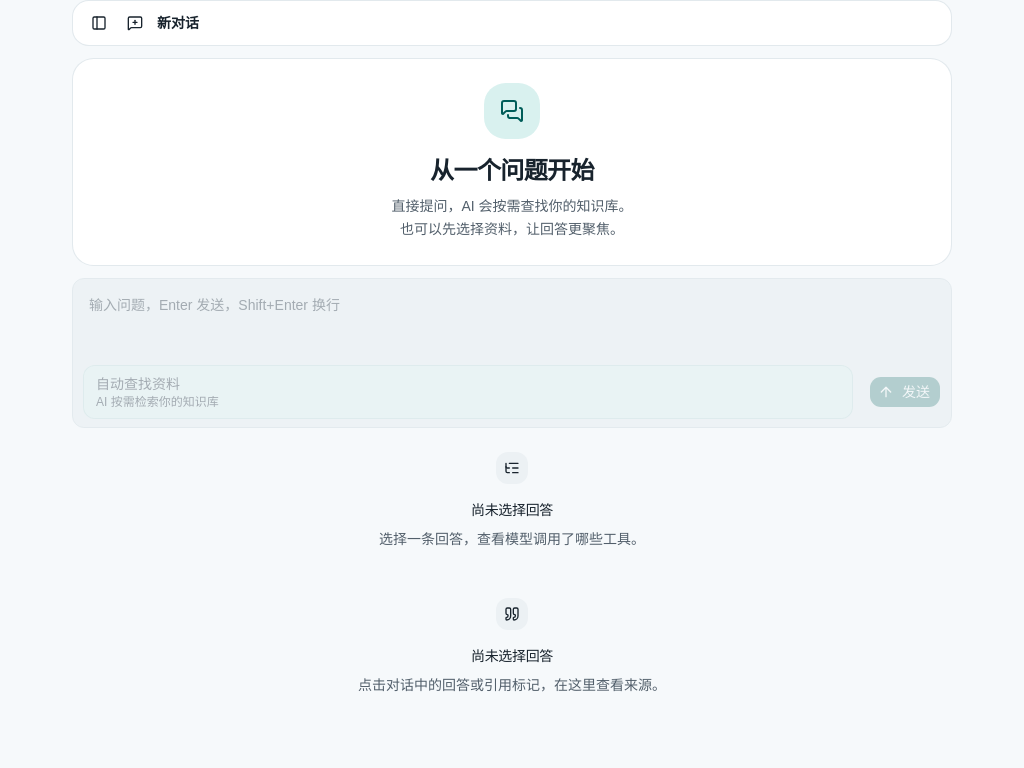
ChatView streaming › rechecks the scope before sending and keeps invalid selections from becoming automatic
The image size is (1024, 768).
Click the button named "展开会话列表" at (99, 23), box [85, 9, 113, 37]
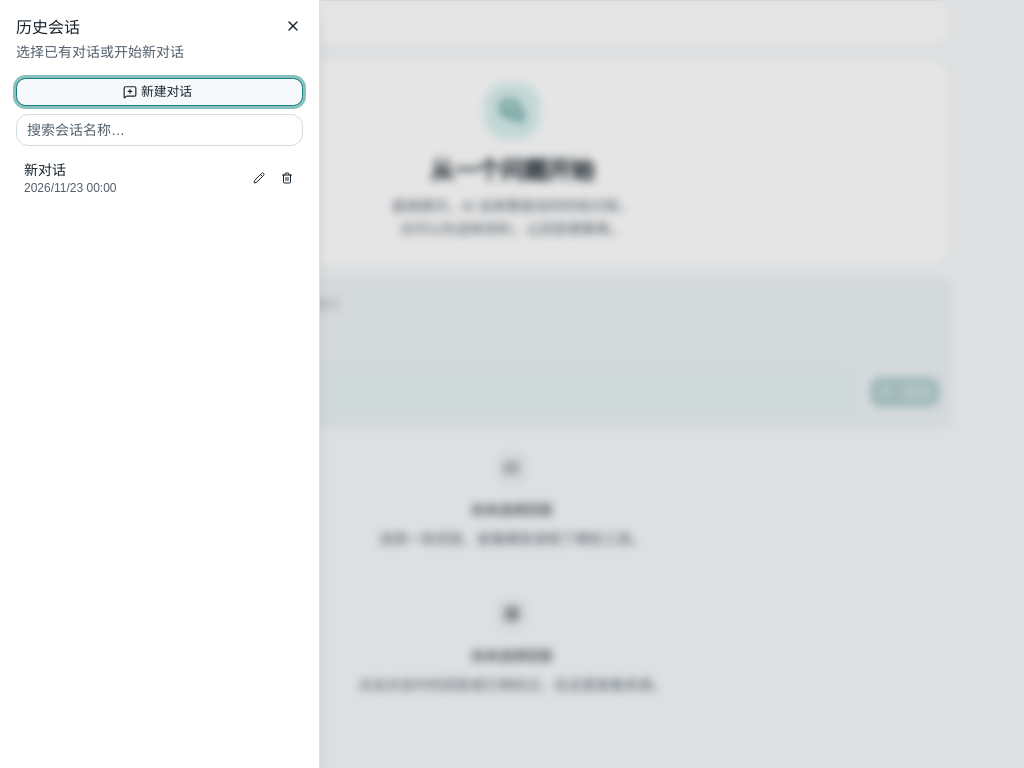
Click the button "新对话 2026/11/23 00:00" at (130, 178), box [16, 154, 243, 202]
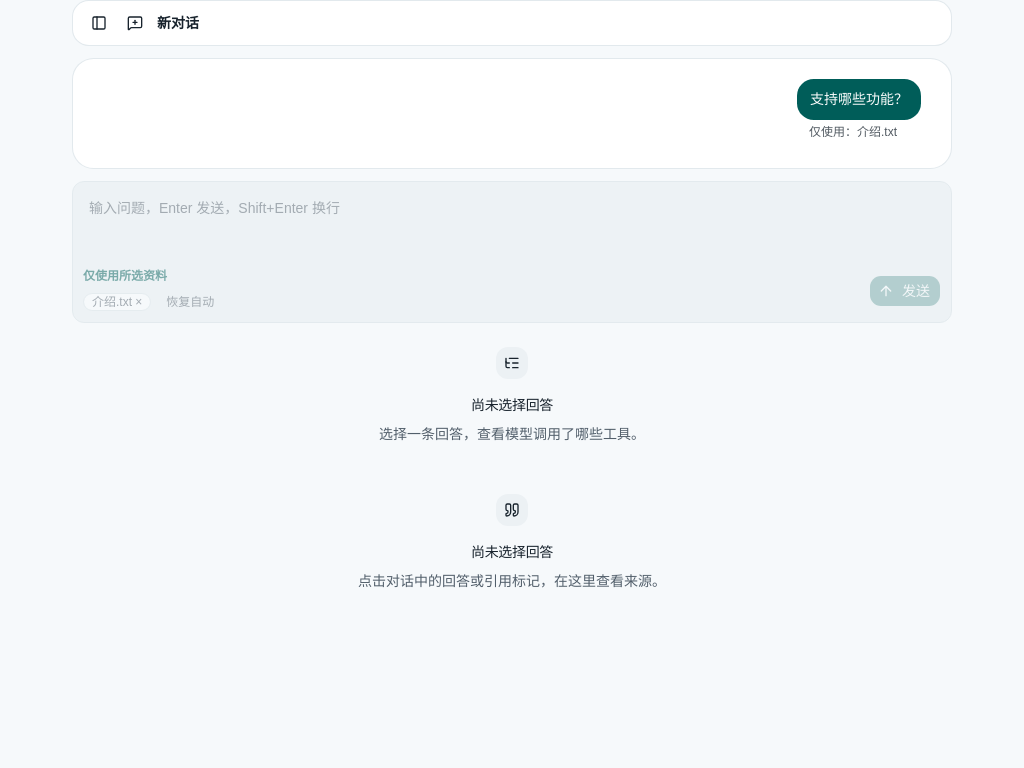
Expected: the button with aria-label "移除介绍.txt" is shown, [83, 293, 151, 311]
Type "继续分析" into the text box labelled "问题" at (512, 222), box [73, 182, 951, 262]
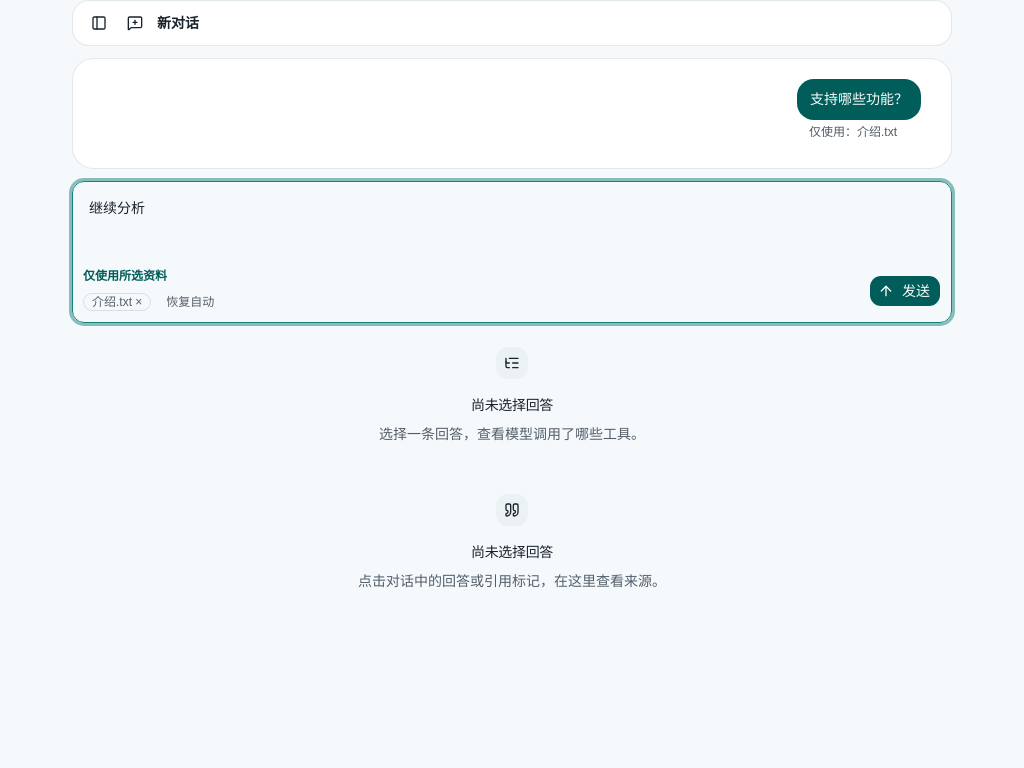
Click the button "发送" at (905, 291), box [869, 275, 941, 307]
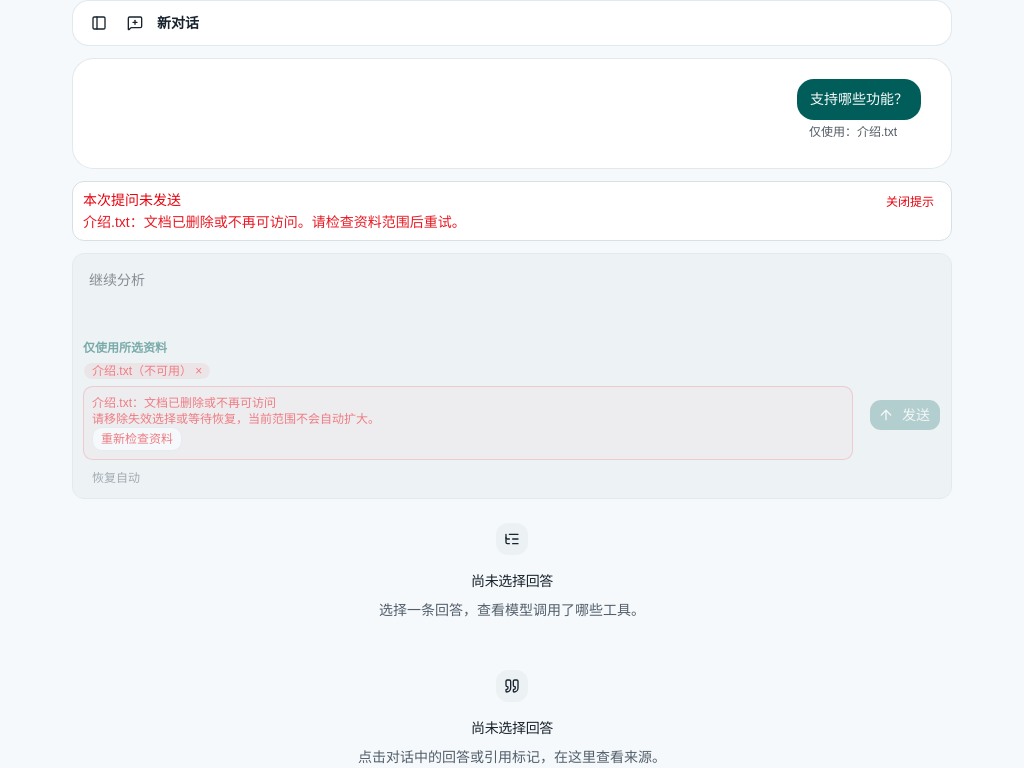
Expected: the text "自动查找资料" is not shown
Expected: the text "本次提问未发送" is shown, [83, 192, 181, 208]
Expected: the button with aria-label "移除介绍.txt" shows "不可用", [83, 362, 211, 380]
